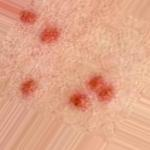Ants: (82, 70, 119, 106), (36, 20, 64, 49), (66, 88, 91, 111), (21, 79, 39, 99), (19, 9, 37, 25)
